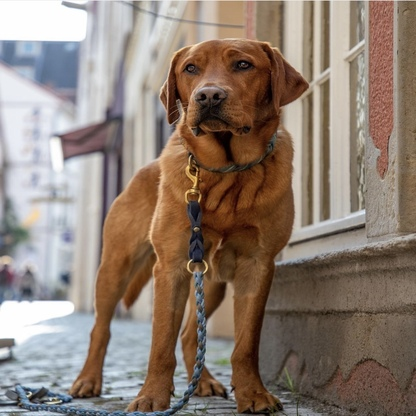labrado: (68, 33, 312, 416)
